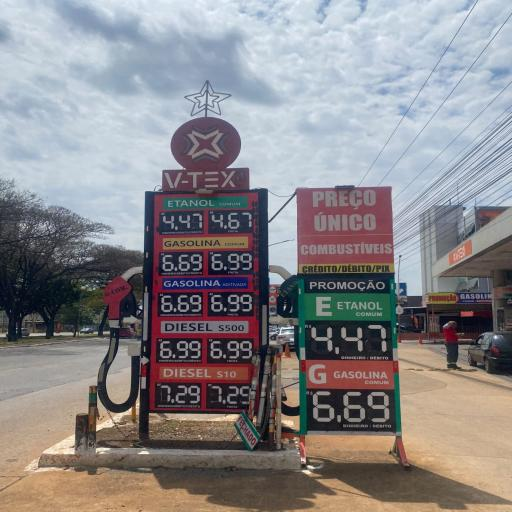ETANOL: (309, 296, 386, 318), (165, 197, 246, 208)
GASOLINA AD: (162, 277, 249, 288)
GASOLINA C: (308, 362, 392, 386), (161, 238, 249, 247)
S10: (160, 366, 244, 380)
S500: (158, 320, 249, 333)
placa: (147, 194, 271, 408), (304, 294, 394, 432)
preco: (309, 389, 392, 424), (306, 324, 392, 356), (158, 339, 203, 360), (160, 294, 202, 314), (157, 385, 201, 404), (160, 254, 204, 272), (161, 212, 203, 230)
